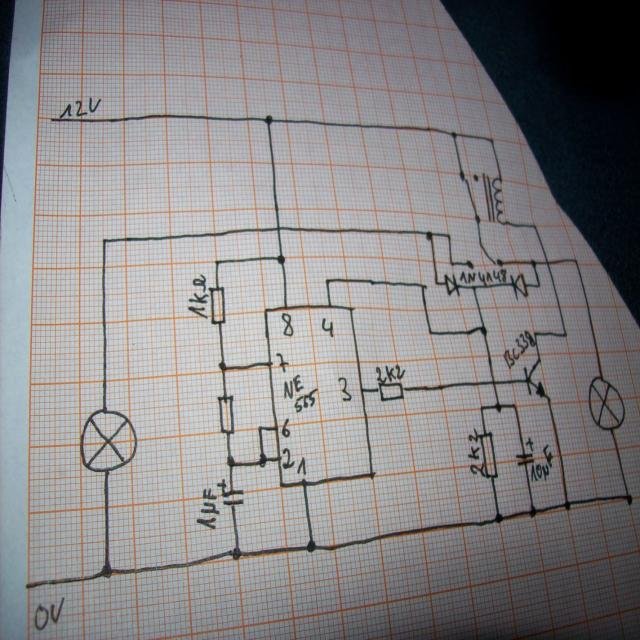capacitor: (216, 478, 245, 507), (515, 437, 534, 466)
crossover: (274, 223, 282, 233), (544, 258, 552, 266), (489, 378, 496, 386)
diode: (509, 273, 528, 301), (443, 272, 460, 296)
junction: (100, 562, 112, 578), (232, 546, 242, 562), (306, 538, 316, 553), (624, 492, 634, 506), (226, 454, 236, 467), (258, 452, 266, 468), (478, 324, 488, 336), (218, 360, 228, 372), (528, 504, 536, 518), (276, 253, 286, 264), (494, 512, 503, 524), (264, 114, 273, 125), (425, 229, 433, 241), (494, 402, 502, 413), (563, 500, 571, 511), (528, 258, 536, 267), (324, 276, 331, 286), (214, 257, 221, 266), (450, 130, 457, 139), (561, 330, 568, 338), (420, 282, 427, 290), (257, 423, 263, 432), (101, 236, 107, 244), (427, 329, 434, 335), (446, 232, 452, 239), (470, 284, 477, 290), (535, 282, 542, 288), (572, 258, 579, 264), (512, 401, 517, 409), (532, 330, 538, 336), (448, 260, 454, 266), (433, 280, 439, 286), (479, 404, 484, 411), (532, 223, 537, 229), (489, 137, 494, 143)
resistor: (478, 431, 498, 479), (216, 394, 235, 435), (208, 285, 226, 326), (376, 381, 405, 402)
switch: (466, 242, 503, 268)
terminal: (22, 580, 33, 593), (48, 114, 54, 124)
text: (283, 373, 318, 412), (503, 329, 535, 368), (187, 273, 209, 319), (34, 597, 64, 630), (196, 488, 219, 530), (59, 96, 101, 118), (467, 427, 485, 478), (530, 444, 554, 482), (459, 268, 506, 285), (375, 363, 405, 382), (337, 376, 352, 402), (280, 312, 294, 336), (281, 446, 295, 469), (320, 317, 334, 338), (275, 352, 289, 372), (297, 456, 307, 476), (281, 416, 290, 438)
transistor: (523, 358, 550, 399)
